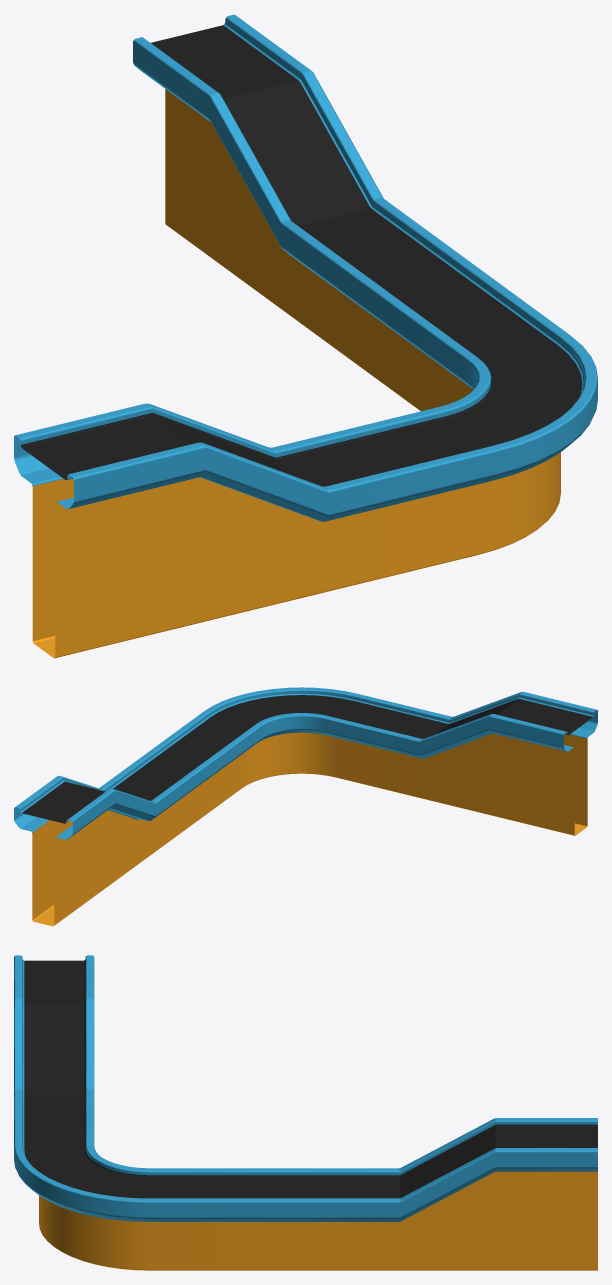
The model's file is Parts_Conveyor.fbx.
3 views of the same model, one above another, from view 1: azimuth 30°, elevation 25°; view 2: azimuth 150°, elevation 25°; view 3: azimuth 270°, elevation 25° (orthographic). The views are drawn at different scales.
Parts seen in each view (by area): view 1: Cube.003; view 2: Cube.003; view 3: Cube.003.
Boxes of the visible parts, <box> form: Cube.003: <box>14,14,597,658</box>; Cube.003: <box>14,687,597,926</box>; Cube.003: <box>14,955,597,1270</box>.
Bounding box in the file's own units: 455 × 142 × 573.
